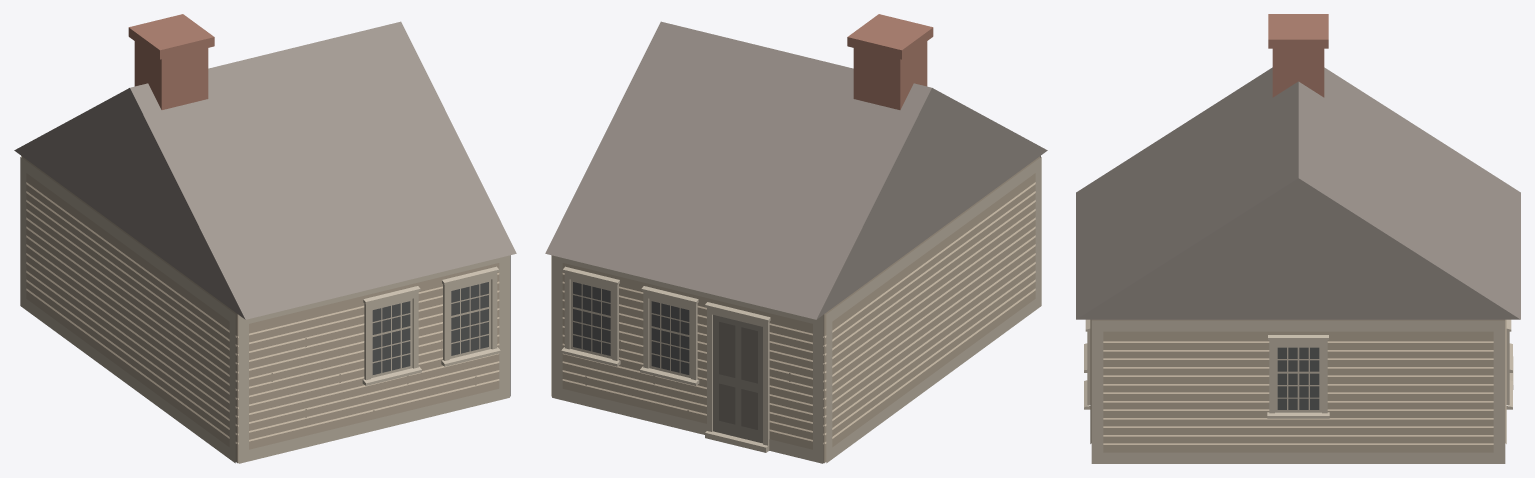
File: inf_artisan_dwelling_west_b__inferred_1835.glb
3 renders of one model, left to right at view 1: azimuth 30°, elevation 25°; view 2: azimuth 150°, elevation 25°; view 3: azimuth 270°, elevation 25°, orthographic. The views are drawn at different scales.
Visible parts, largest first — view 1: inf_artisan_dwelling_west_b__inferred_1835; view 2: inf_artisan_dwelling_west_b__inferred_1835; view 3: inf_artisan_dwelling_west_b__inferred_1835.
Boxes of the visible parts, x1=… form: inf_artisan_dwelling_west_b__inferred_1835: x1=14, y1=14, x2=516, y2=463; inf_artisan_dwelling_west_b__inferred_1835: x1=545, y1=14, x2=1047, y2=463; inf_artisan_dwelling_west_b__inferred_1835: x1=1076, y1=14, x2=1520, y2=463.
Bounding box in the file's own units: 5.03 × 5.88 × 7.21.
